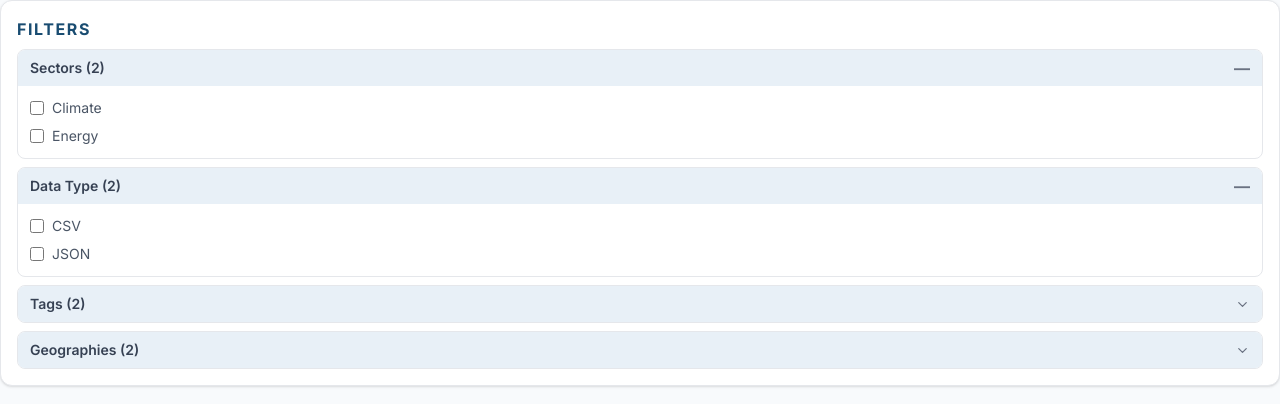
Test: FiltersSidebar › shows RESET button when filters are active
Click the checkbox labelled "Climate": (37, 108) [30,101,44,115]
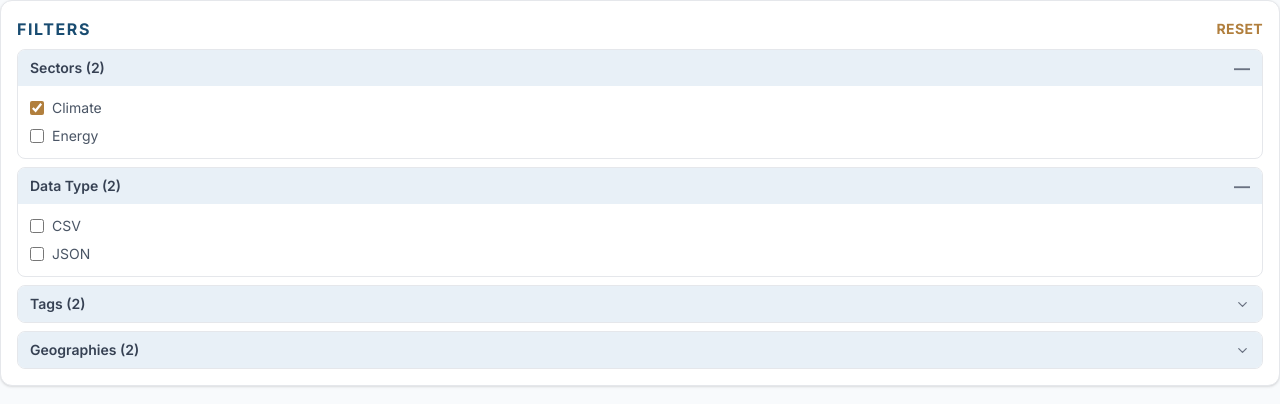
expect the button "RESET" is shown: met, box [1216,19,1263,39]
